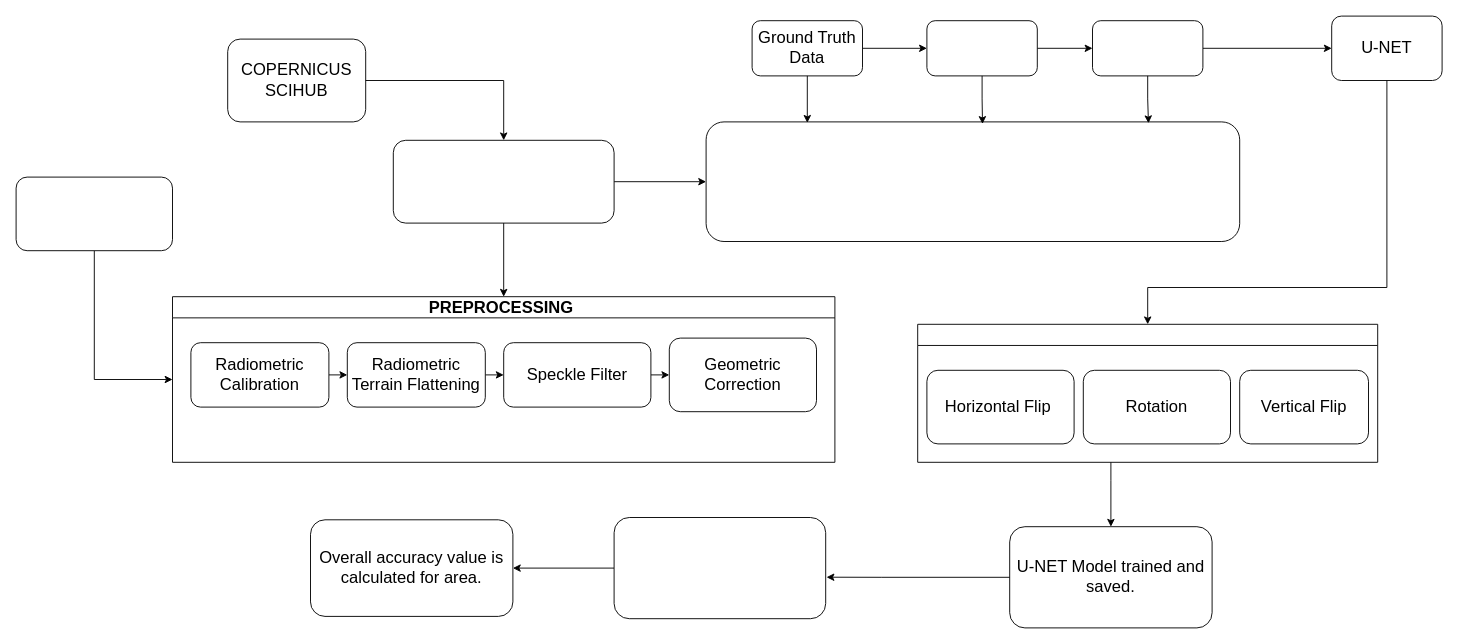
This 1458x644 diagram has some shape labels left out. The box of each missing label's shape, as (x1, y1, x2, y2) in pixels:
DATA AUGMENTATION: (917, 323, 1378, 462)
Graphical User Interface is created to visualize the classification.: (613, 517, 826, 619)
Image bands are stacked.Training samples are collected.: (705, 121, 1240, 242)
Multitemporal Sentinel -1 study field data is obtained.: (392, 139, 614, 223)
Python: (1092, 20, 1203, 76)
QGIS: (926, 20, 1037, 76)
SNAP Software: (15, 176, 172, 251)
